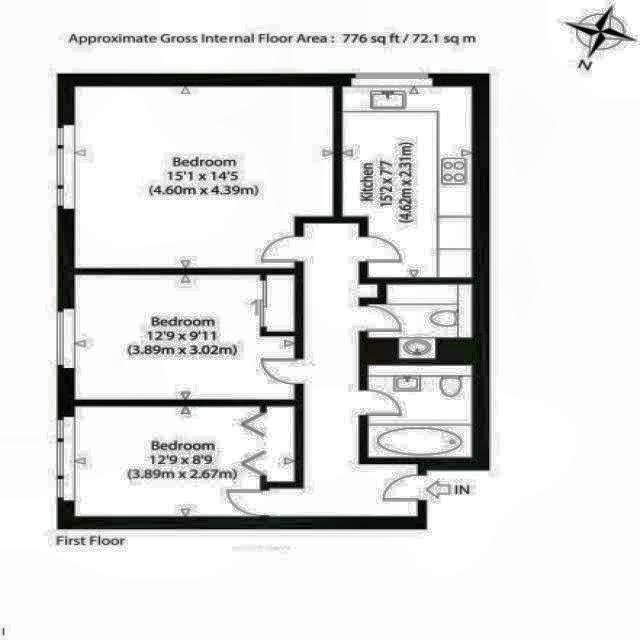room: (74, 86, 334, 269), (269, 223, 418, 516), (74, 275, 294, 400), (342, 86, 472, 277), (74, 406, 295, 517), (367, 365, 472, 458), (367, 284, 472, 359)
